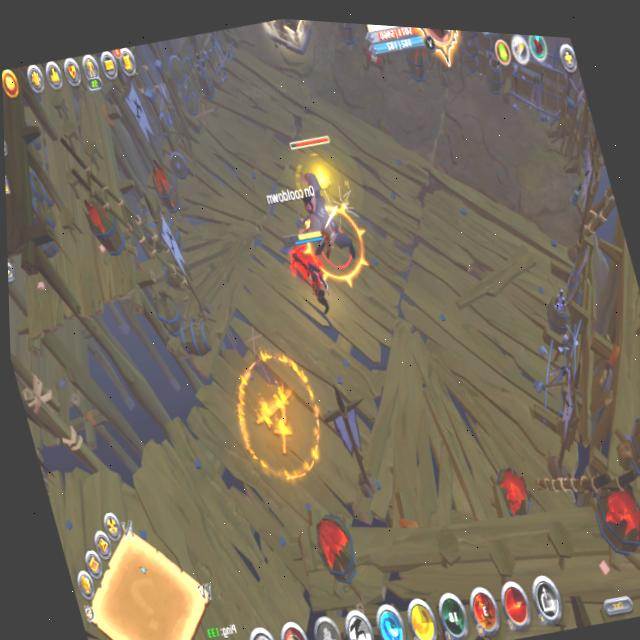ore: (276, 122, 374, 297)
red: (279, 226, 345, 328)
